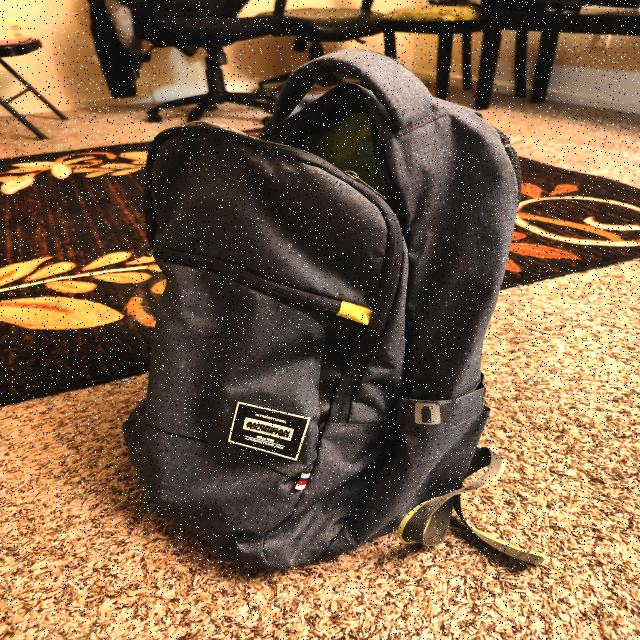bag: (157, 136, 506, 556)
